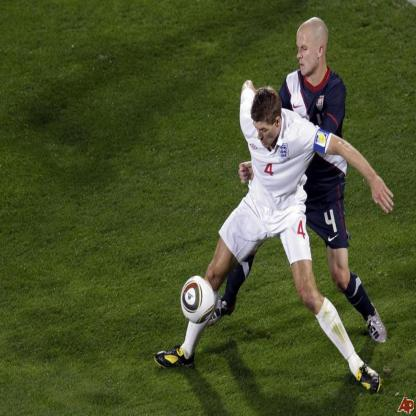face: (297, 31, 318, 77), (254, 120, 279, 148)
